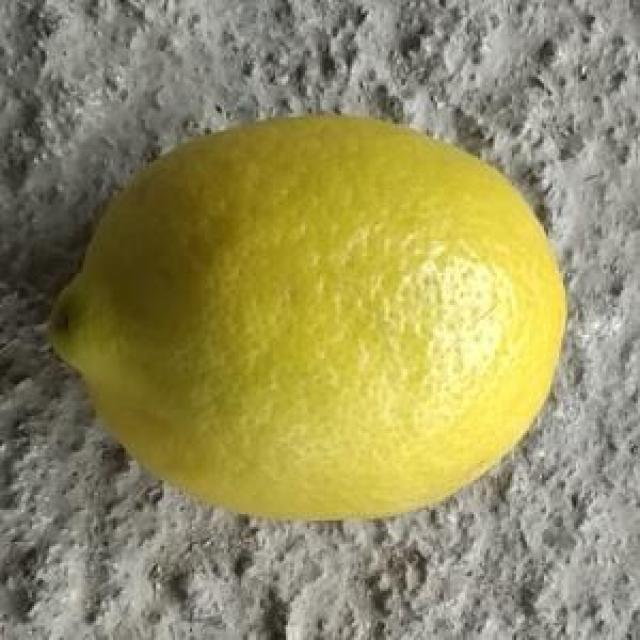lemon: (48, 112, 570, 522)
